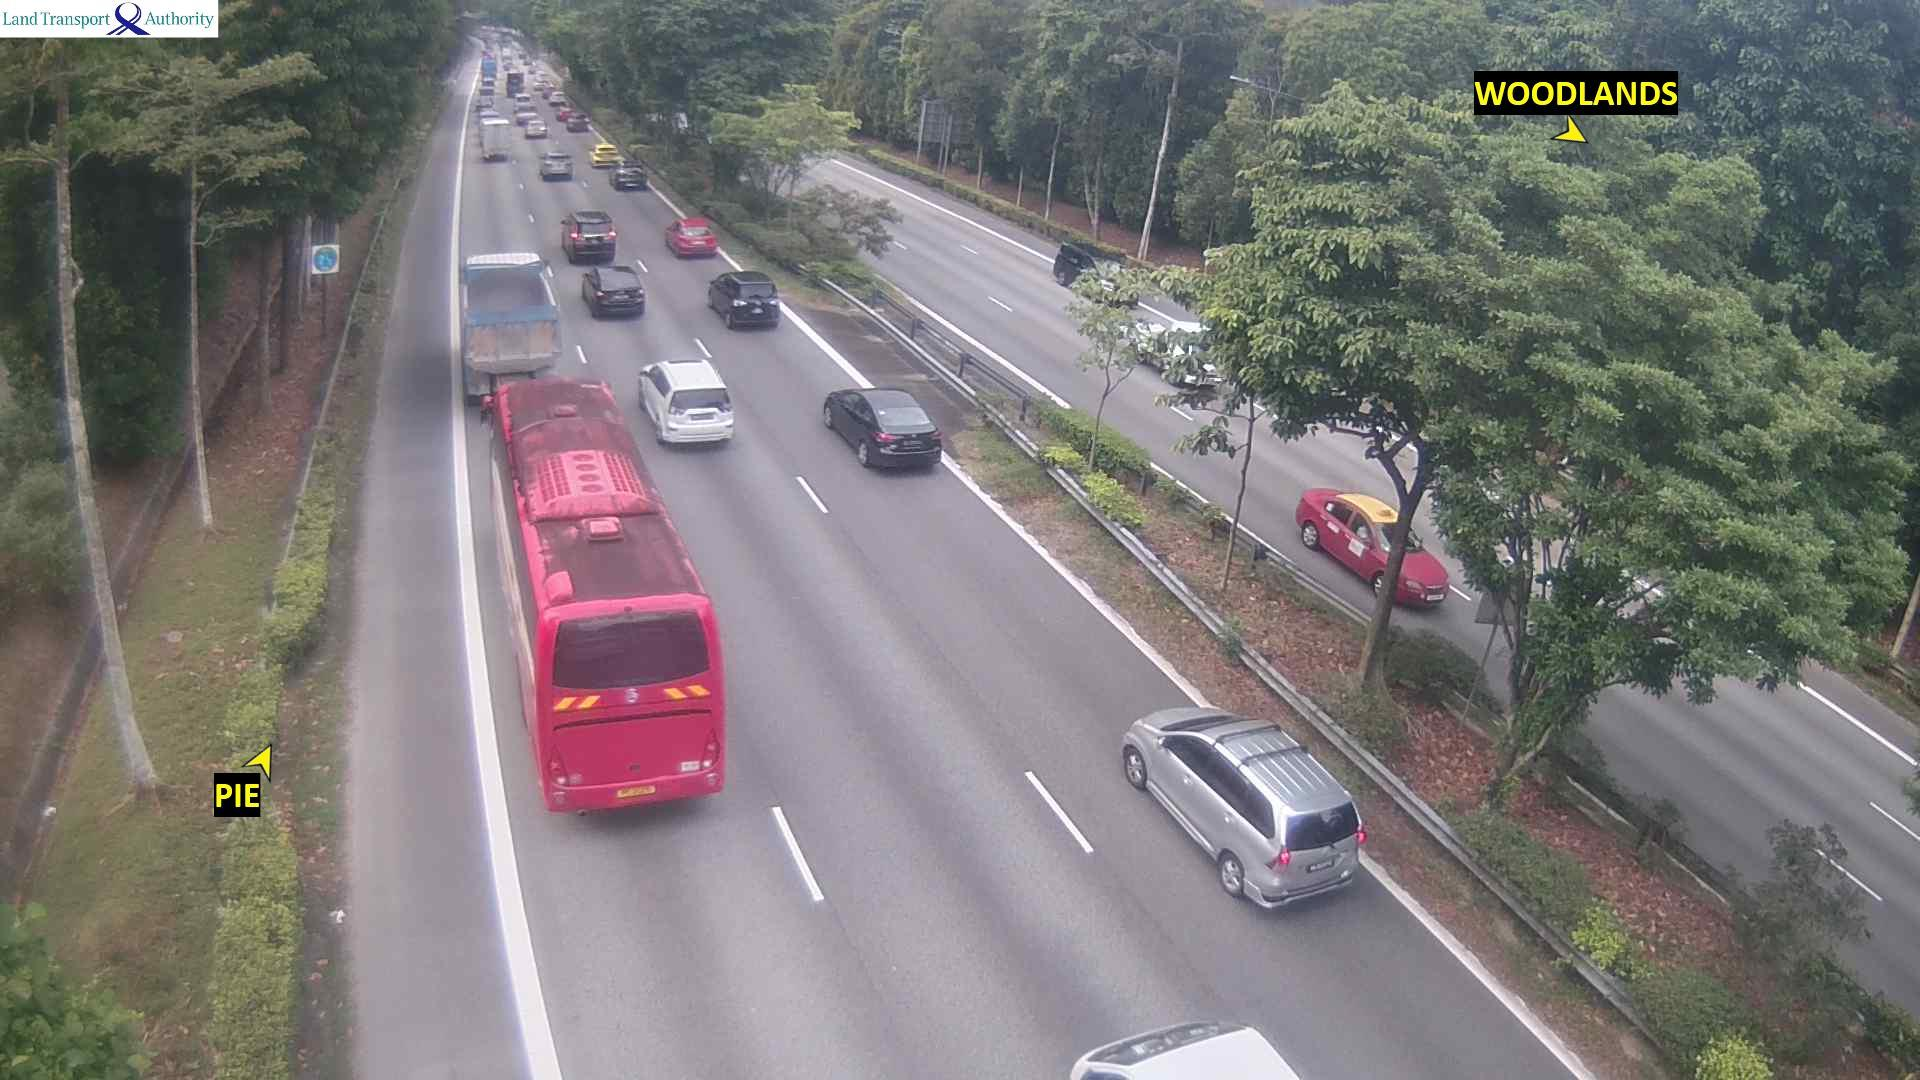bus: (485, 363, 727, 816), (481, 59, 501, 84)
cars: (1120, 704, 1367, 910), (1294, 487, 1449, 607), (1068, 1018, 1302, 1077), (1531, 559, 1676, 644), (822, 386, 942, 469), (636, 357, 735, 447), (1129, 318, 1221, 390), (1052, 240, 1138, 309), (705, 269, 781, 328), (582, 265, 645, 316), (559, 208, 617, 264), (663, 216, 717, 258), (539, 148, 574, 179), (611, 162, 647, 189), (589, 140, 620, 166), (512, 94, 537, 125), (475, 87, 501, 108), (524, 117, 549, 138), (564, 111, 589, 131), (549, 92, 574, 111), (535, 73, 554, 88)
trucks: (459, 251, 562, 406), (477, 113, 512, 160), (506, 70, 530, 96)
